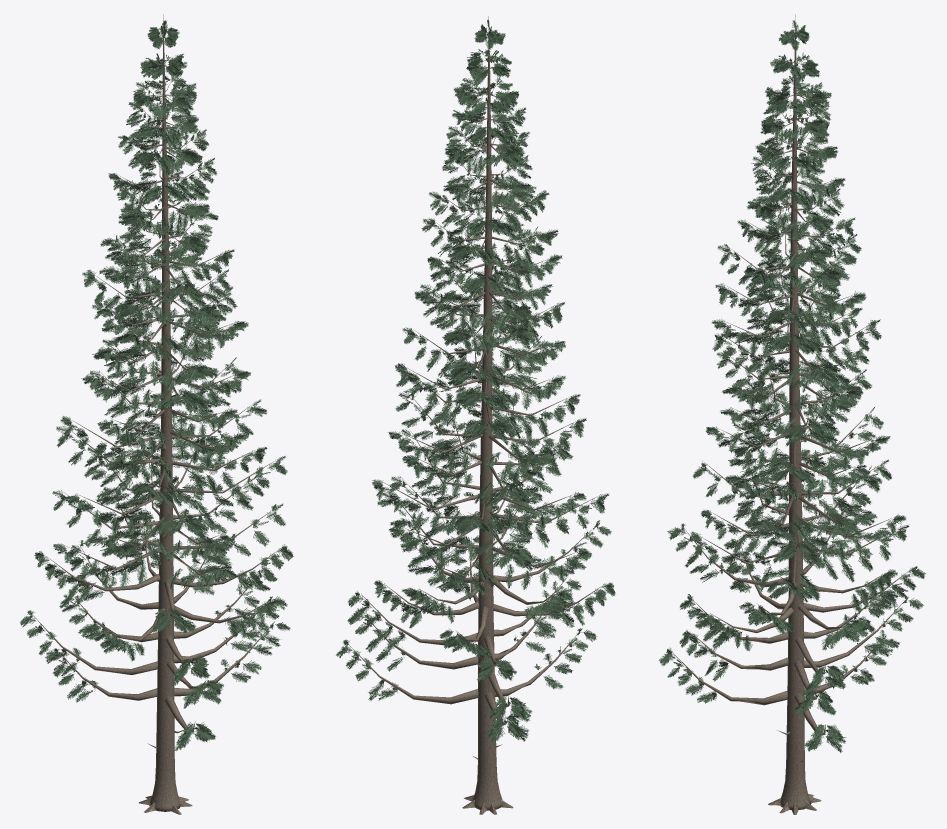
File: SS_Defect_CoarseBranch_PostMature_01_LOD1.fbx
3 renders of one model, left to right at view 1: azimuth 30°, elevation 25°; view 2: azimuth 150°, elevation 25°; view 3: azimuth 270°, elevation 25°, orthographic.
Parts seen in each view (by area): view 1: SS_Defect_CoarseBranch_PostMature_01_LOD1_Foliage, SS_Defect_CoarseBranch_PostMature_01_LOD1_Branches, SS_Defect_CoarseBranch_PostMature_01_LOD1_Trunk; view 2: SS_Defect_CoarseBranch_PostMature_01_LOD1_Foliage, SS_Defect_CoarseBranch_PostMature_01_LOD1_Branches, SS_Defect_CoarseBranch_PostMature_01_LOD1_Trunk; view 3: SS_Defect_CoarseBranch_PostMature_01_LOD1_Foliage, SS_Defect_CoarseBranch_PostMature_01_LOD1_Branches, SS_Defect_CoarseBranch_PostMature_01_LOD1_Trunk.
Part boxes in pixels (<box>): SS_Defect_CoarseBranch_PostMature_01_LOD1_Foliage: <box>20,20,293,750</box>; SS_Defect_CoarseBranch_PostMature_01_LOD1_Branches: <box>33,28,280,748</box>; SS_Defect_CoarseBranch_PostMature_01_LOD1_Trunk: <box>139,14,192,814</box>; SS_Defect_CoarseBranch_PostMature_01_LOD1_Foliage: <box>336,20,615,742</box>; SS_Defect_CoarseBranch_PostMature_01_LOD1_Branches: <box>348,30,604,759</box>; SS_Defect_CoarseBranch_PostMature_01_LOD1_Trunk: <box>462,16,513,814</box>; SS_Defect_CoarseBranch_PostMature_01_LOD1_Foliage: <box>659,20,925,752</box>; SS_Defect_CoarseBranch_PostMature_01_LOD1_Branches: <box>671,31,910,761</box>; SS_Defect_CoarseBranch_PostMature_01_LOD1_Trunk: <box>768,14,821,814</box>.
Size of the model in its own units: 1036 by 3100 by 998.
Materials: 2 (2 with a texture image).
